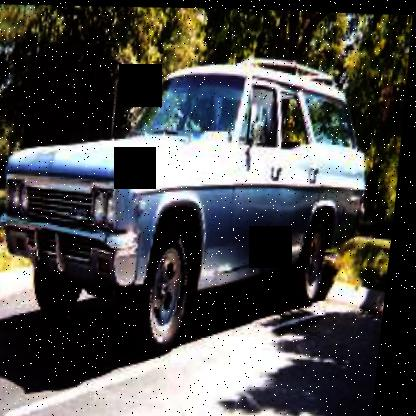not_emergency: (0, 40, 388, 360)
